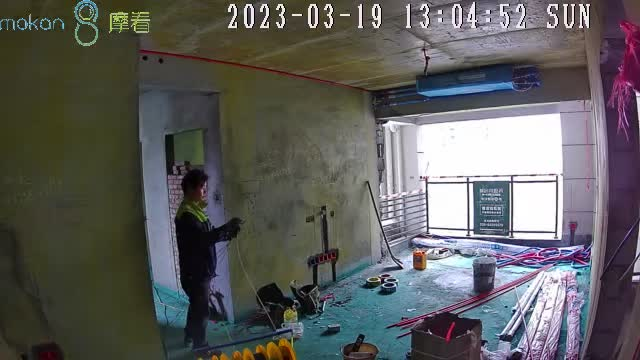people: (174, 170, 241, 349)
window: (420, 114, 564, 238)
